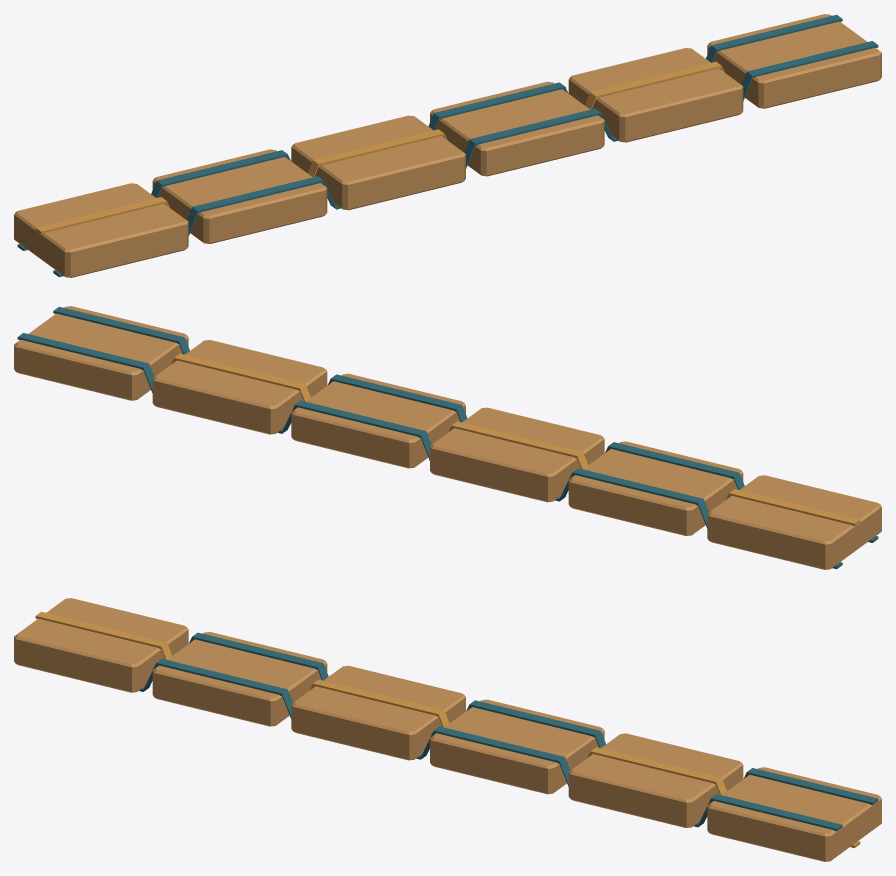
The picture shows the model from 3 angles, top to bottom: view 1: azimuth 30°, elevation 25°; view 2: azimuth 150°, elevation 25°; view 3: azimuth 330°, elevation 25°; orthographic projection.
Parts seen in each view (by area): view 1: WholeChamferedWoodTile_0, WholeChamferedWoodTile_4, WholeChamferedWoodTile_2, WholeChamferedWoodTile_1, WholeChamferedWoodTile_3, WholeChamferedWoodTile_5, WholeContinuousAlternatingRibbon_Left, WholeContinuousAlternatingRibbon_Right, WholeContinuousAlternatingRibbon_Centre; view 2: WholeChamferedWoodTile_0, WholeChamferedWoodTile_4, WholeChamferedWoodTile_2, WholeChamferedWoodTile_1, WholeChamferedWoodTile_3, WholeChamferedWoodTile_5, WholeContinuousAlternatingRibbon_Right, WholeContinuousAlternatingRibbon_Left, WholeContinuousAlternatingRibbon_Centre; view 3: WholeChamferedWoodTile_4, WholeChamferedWoodTile_0, WholeChamferedWoodTile_2, WholeChamferedWoodTile_5, WholeChamferedWoodTile_1, WholeChamferedWoodTile_3, WholeContinuousAlternatingRibbon_Left, WholeContinuousAlternatingRibbon_Centre, WholeContinuousAlternatingRibbon_Right.
Boxes of the visible parts, x1,y1,x2,y2 form: WholeChamferedWoodTile_0: (14,183,188,277); WholeChamferedWoodTile_4: (568,48,743,142); WholeChamferedWoodTile_2: (291,115,465,210); WholeChamferedWoodTile_1: (152,149,327,243); WholeChamferedWoodTile_3: (430,81,604,176); WholeChamferedWoodTile_5: (707,14,881,108); WholeContinuousAlternatingRibbon_Left: (53,41,878,277); WholeContinuousAlternatingRibbon_Right: (17,14,842,250); WholeContinuousAlternatingRibbon_Centre: (35,61,724,234); WholeChamferedWoodTile_0: (707,475,881,569); WholeChamferedWoodTile_4: (152,340,327,434); WholeChamferedWoodTile_2: (430,407,604,502); WholeChamferedWoodTile_1: (568,441,743,535); WholeChamferedWoodTile_3: (291,373,465,468); WholeChamferedWoodTile_5: (14,306,188,400); WholeContinuousAlternatingRibbon_Right: (17,333,842,569); WholeContinuousAlternatingRibbon_Left: (53,306,878,542); WholeContinuousAlternatingRibbon_Centre: (171,353,860,526); WholeChamferedWoodTile_4: (568,733,743,827); WholeChamferedWoodTile_0: (14,598,188,692); WholeChamferedWoodTile_2: (291,665,465,760); WholeChamferedWoodTile_5: (707,767,881,861); WholeChamferedWoodTile_1: (152,632,327,726); WholeChamferedWoodTile_3: (430,699,604,794); WholeContinuousAlternatingRibbon_Left: (139,658,842,831); WholeContinuousAlternatingRibbon_Centre: (35,611,860,848); WholeContinuousAlternatingRibbon_Right: (189,632,878,805).
Size of the model in its own units: 0.6616 by 0.025 by 0.077.
